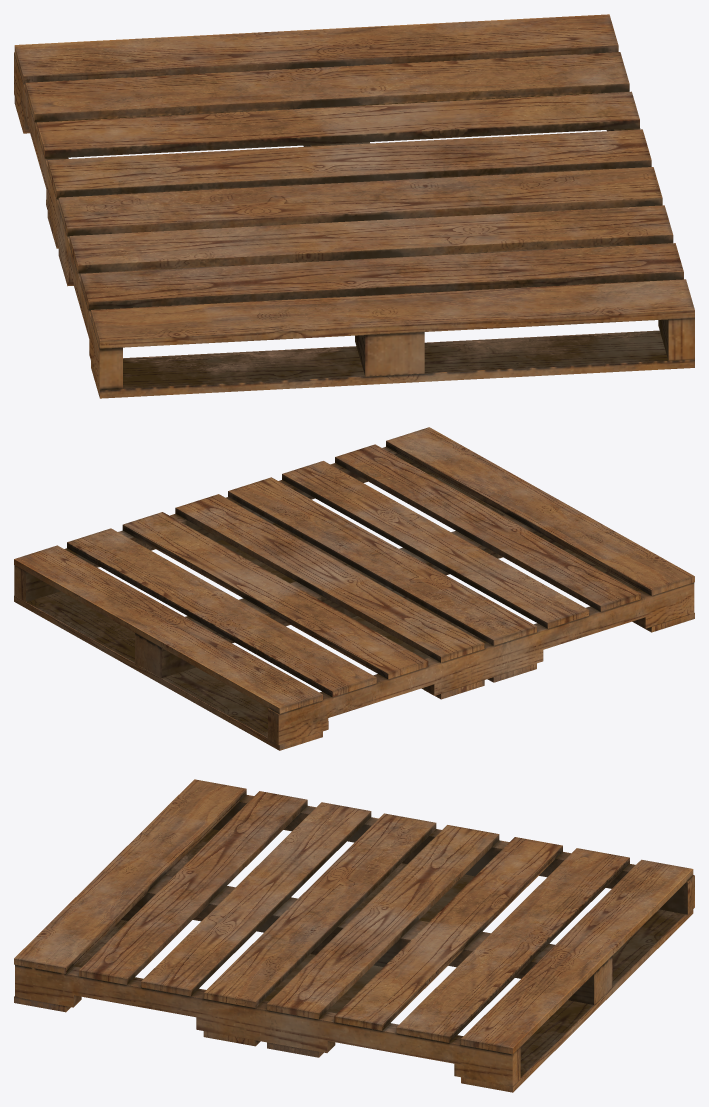
The model's file is wood1.glb.
3 views of the same model, one above another, from view 1: azimuth 30°, elevation 25°; view 2: azimuth 150°, elevation 25°; view 3: azimuth 270°, elevation 25° (orthographic). The views are drawn at different scales.
Parts seen in each view (by area): view 1: pallet2_Pallet_shader2_0; view 2: pallet2_Pallet_shader2_0; view 3: pallet2_Pallet_shader2_0.
Boxes of the visible parts, x1,y1,x2,y2 form: pallet2_Pallet_shader2_0: (14, 14, 694, 398); pallet2_Pallet_shader2_0: (14, 427, 694, 750); pallet2_Pallet_shader2_0: (14, 779, 694, 1092).
Bounding box in the file's own units: 1.77 × 0.1359 × 1.89.
1 material, 1 textured.
